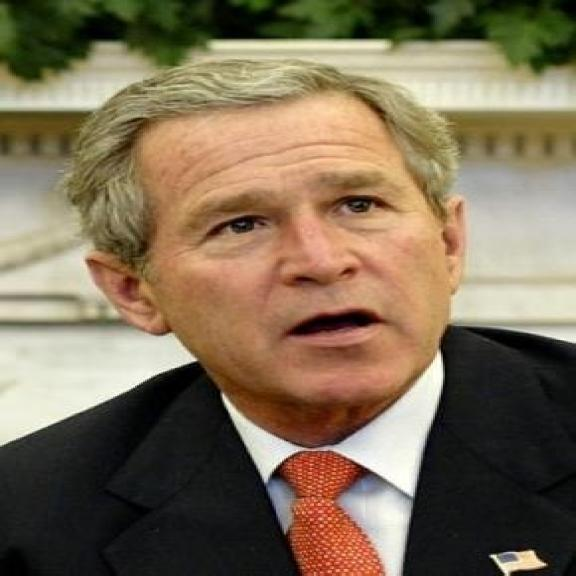face: (78, 78, 480, 410)
